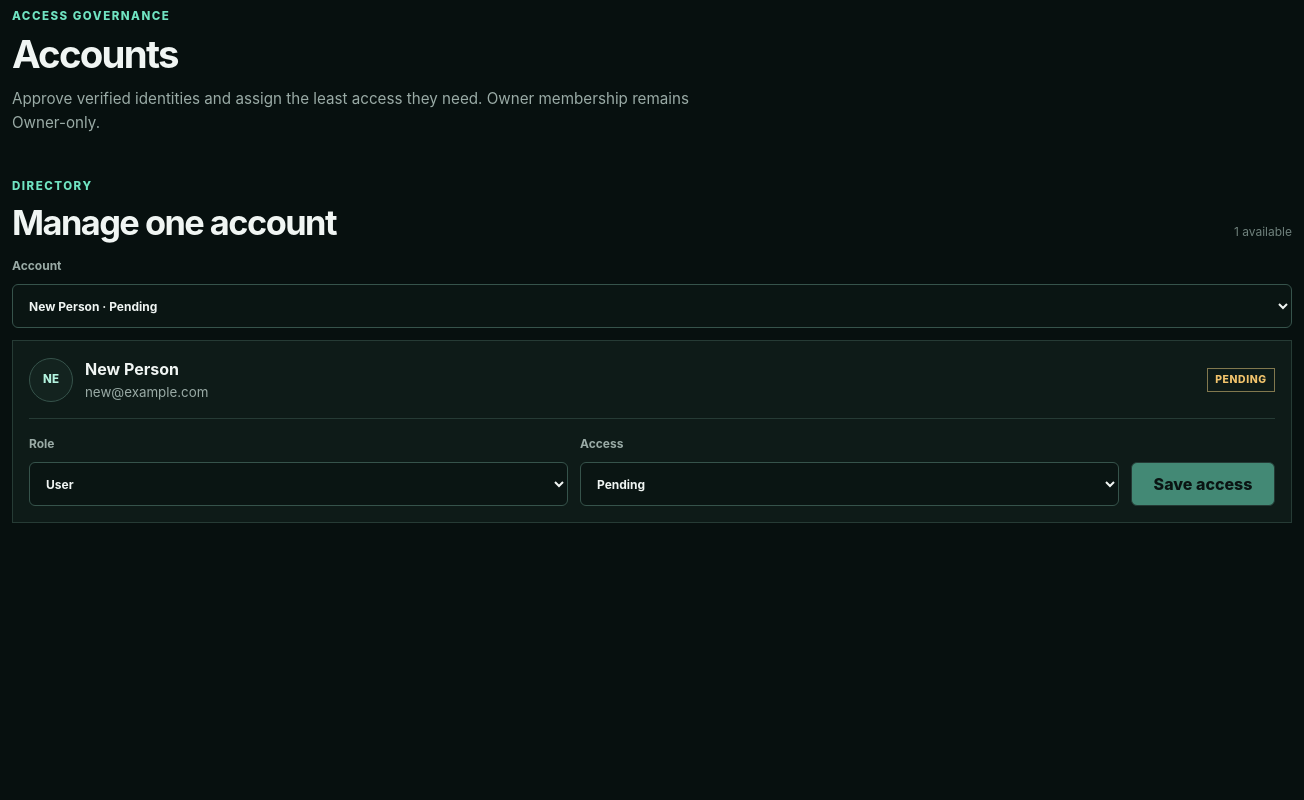
account governance interface › lets an Owner assign role and lifecycle from a touch-friendly account card
The width and height of the screenshot is (1304, 800).
Select "Trainer" in the dropdown labelled "Role" at (298, 484), box [29,462,568,506]
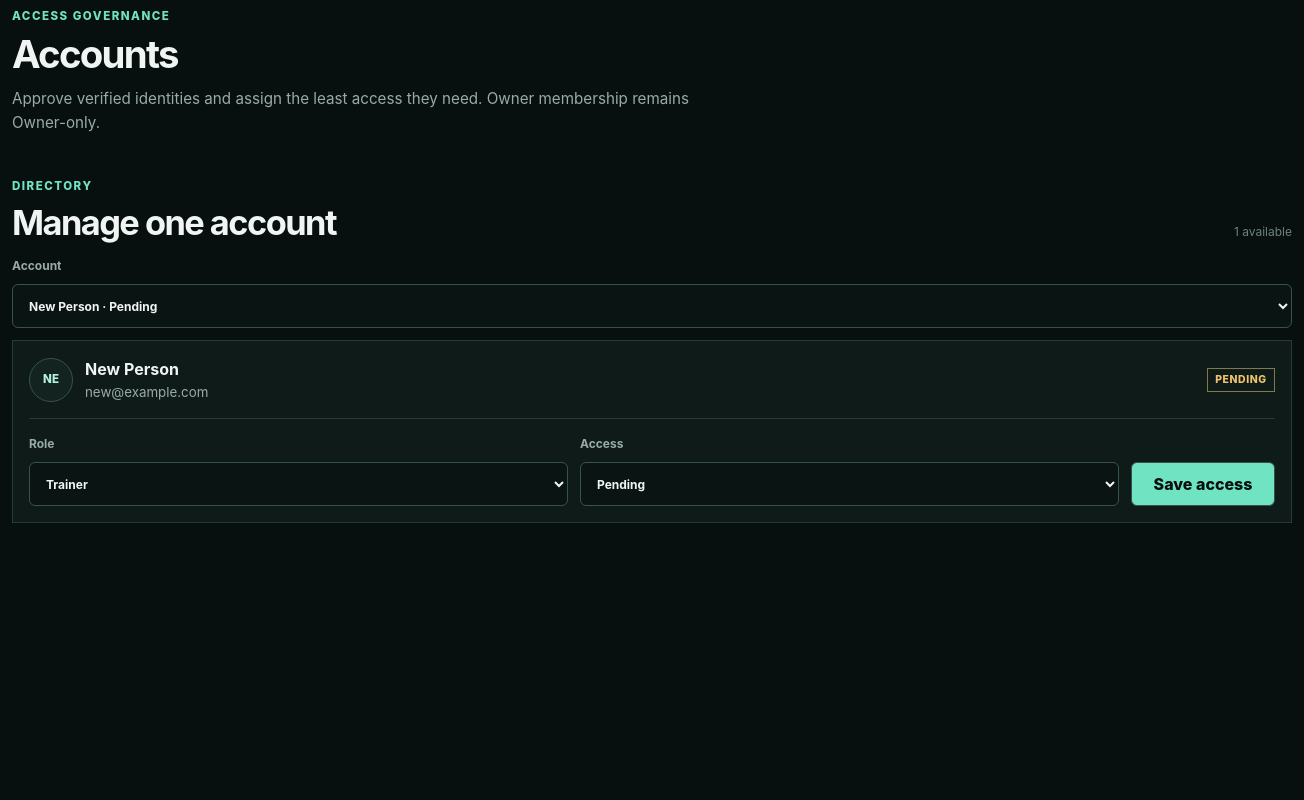
Select "Approved" in the dropdown labelled "Access" at (850, 484), box [580,462,1119,506]
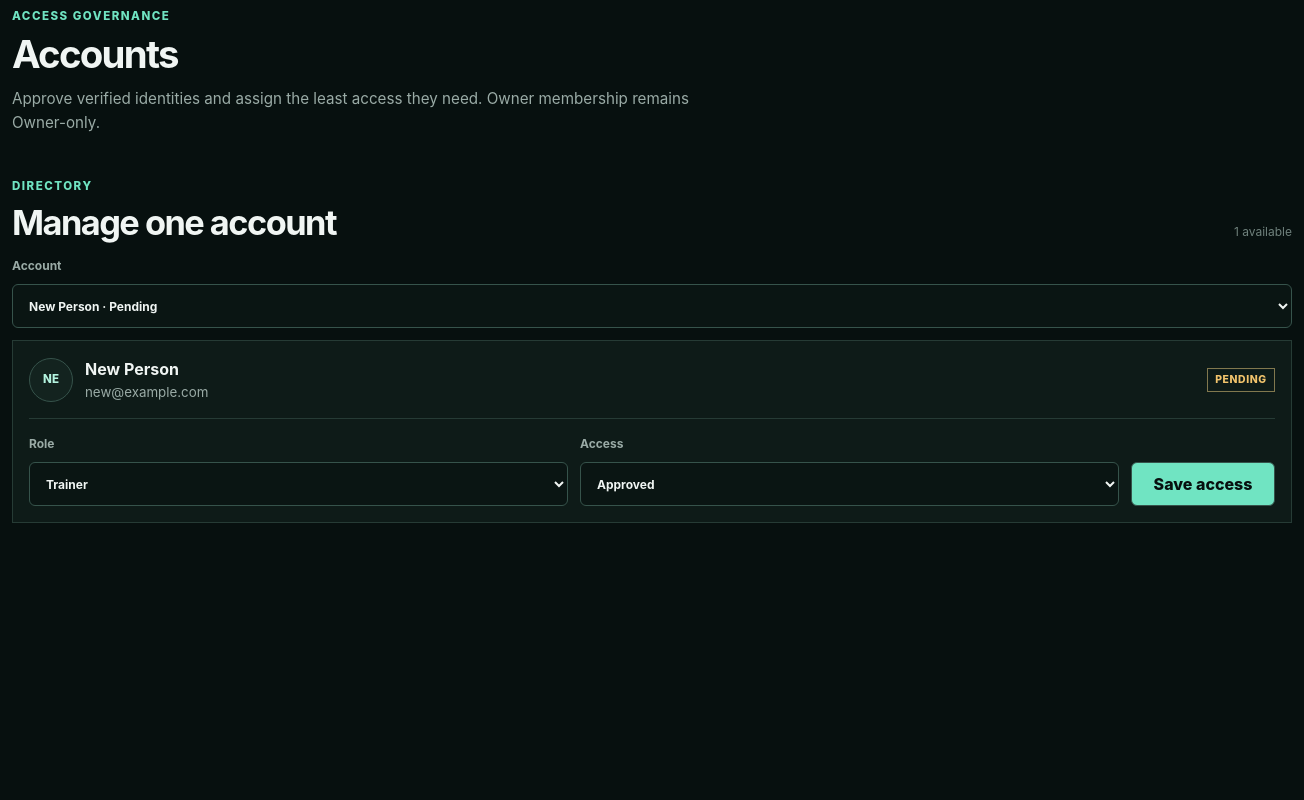
Click the button "Save access" at (1203, 484), box [1131,462,1275,506]
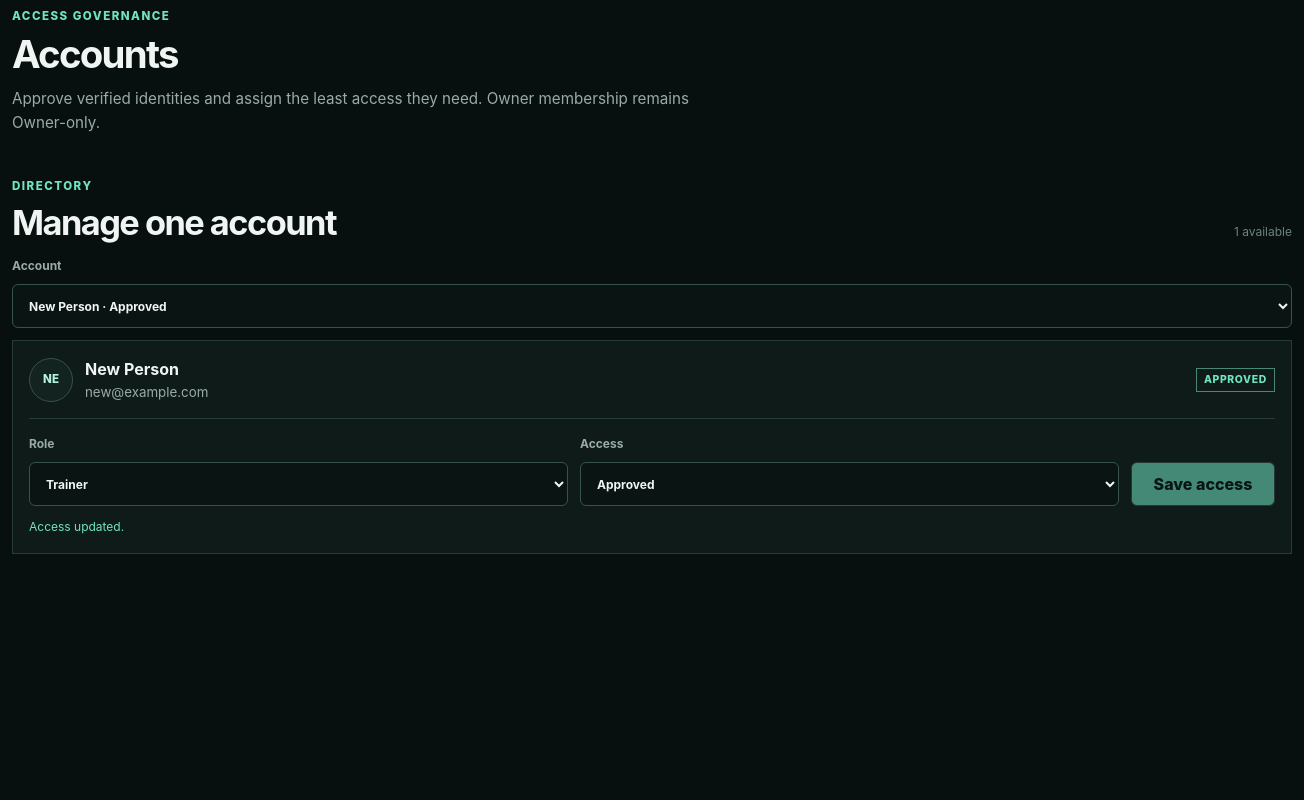
Now the text "Access updated." is shown, box [29,519,124,534]
